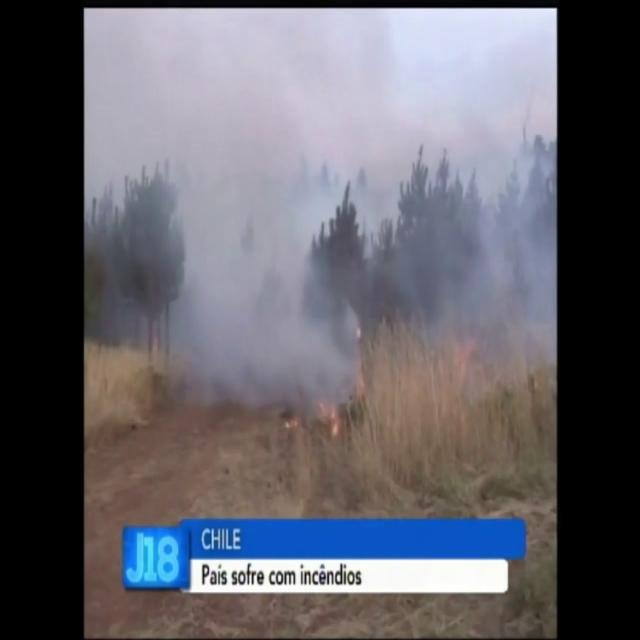Fire: (292, 393, 343, 428)
Smoke: (129, 16, 370, 430), (420, 19, 554, 400)
